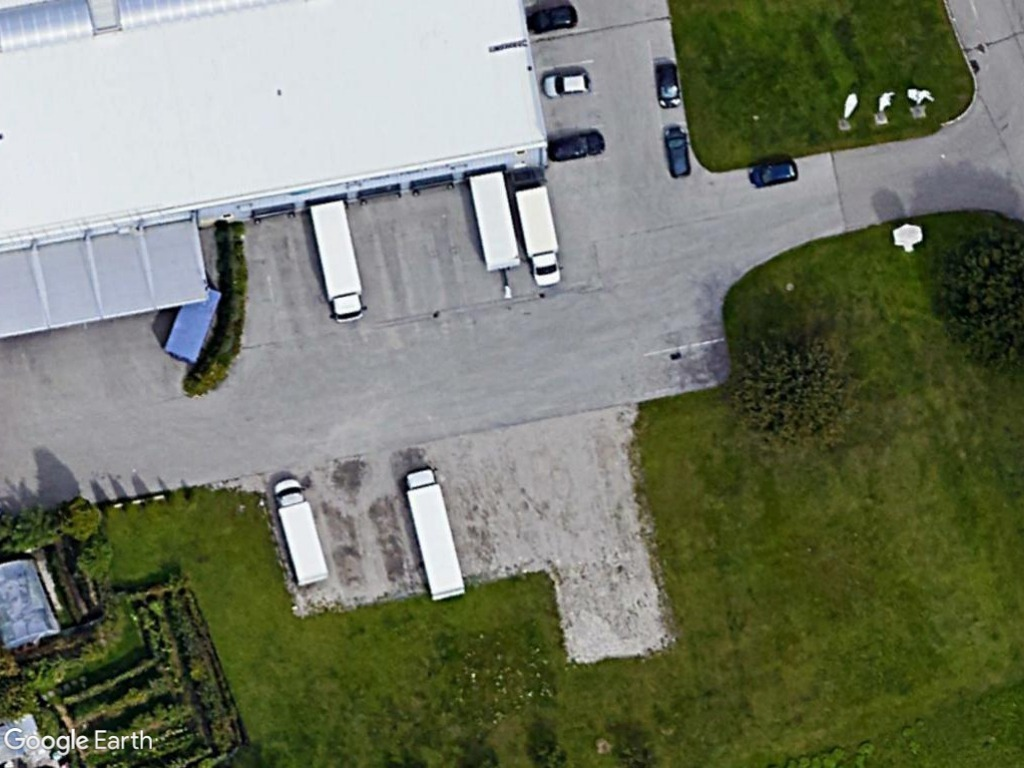car: (544, 127, 611, 167), (659, 123, 695, 180), (523, 0, 580, 34), (538, 67, 593, 100), (747, 158, 803, 190), (653, 58, 683, 112)
truck: (403, 464, 469, 607), (301, 197, 369, 326), (271, 474, 332, 592), (509, 182, 567, 290)
